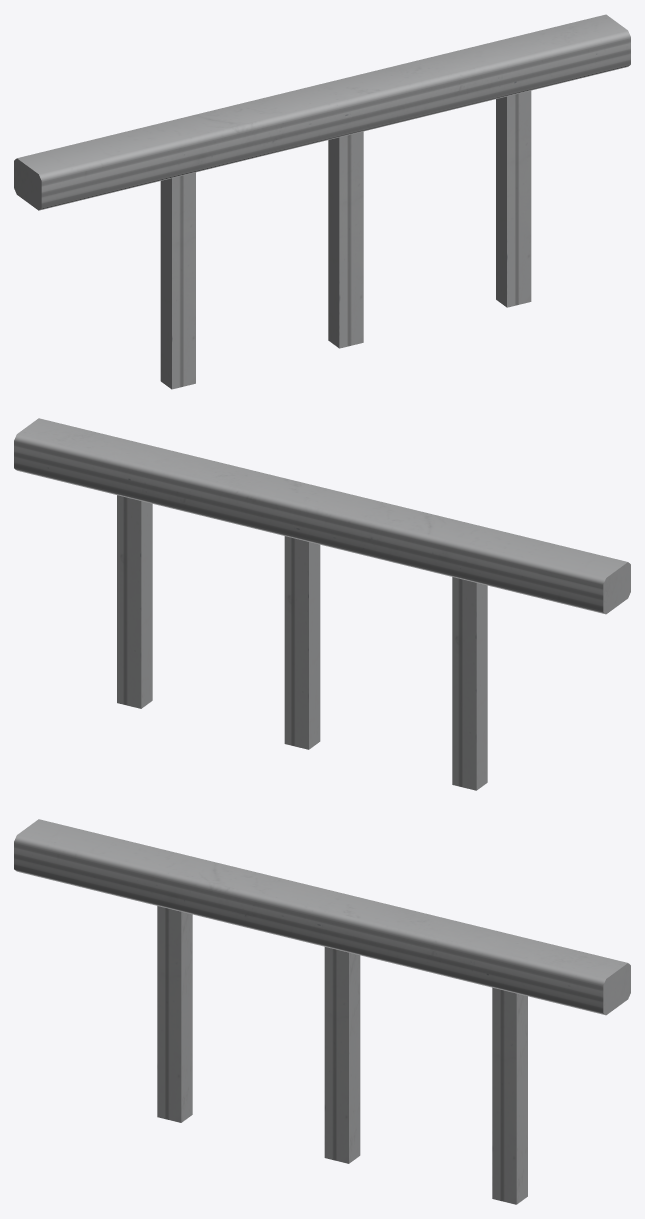
File: MB_Railing_A_2m.fbx
3 views of the same model, one above another, from view 1: azimuth 30°, elevation 25°; view 2: azimuth 150°, elevation 25°; view 3: azimuth 330°, elevation 25° (orthographic).
Parts seen in each view (by area): view 1: MB_Railing_A_2m; view 2: MB_Railing_A_2m; view 3: MB_Railing_A_2m.
Boxes of the visible parts, x1,y1,x2,y2 form: MB_Railing_A_2m: (14, 14, 630, 389); MB_Railing_A_2m: (14, 418, 630, 790); MB_Railing_A_2m: (14, 819, 630, 1204).
Bounding box in the file's own units: 200 × 81.47 × 16.24.
